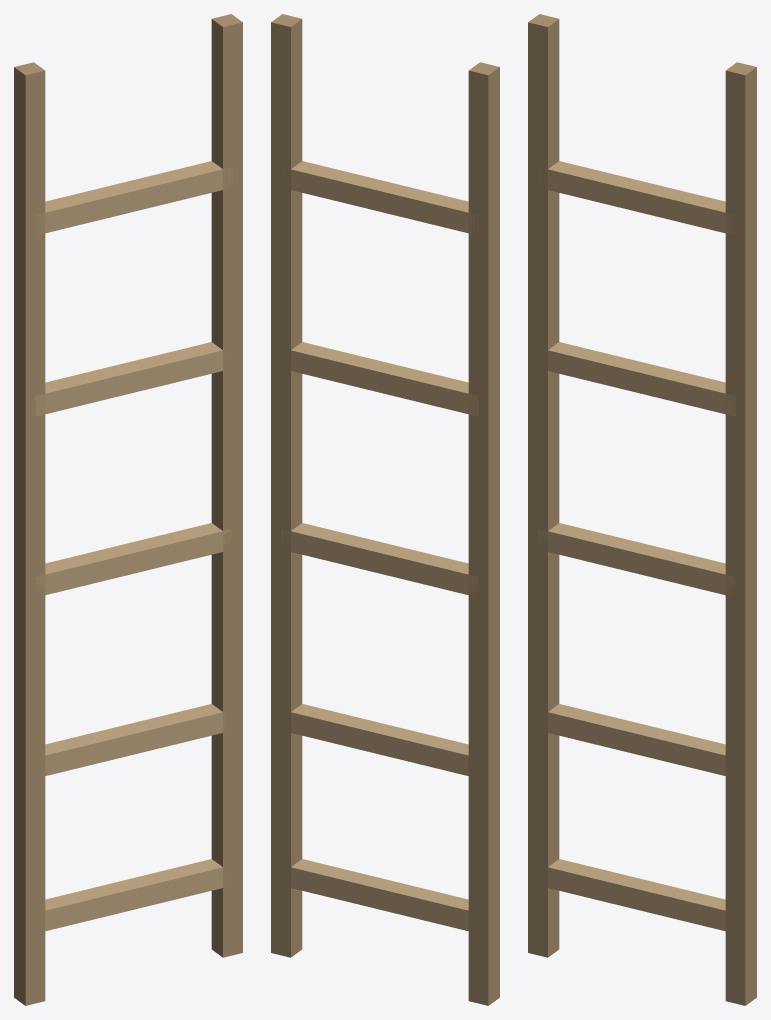
The model's file is 18-Casas_escalera_mano.glb.
The picture shows the model from 3 angles, left to right: view 1: azimuth 30°, elevation 25°; view 2: azimuth 150°, elevation 25°; view 3: azimuth 330°, elevation 25°; orthographic projection.
Visible parts, largest first — view 1: SM_Escalera_M_Escalera_Larguero, SM_Escalera_M_Escalera_Peldano; view 2: SM_Escalera_M_Escalera_Larguero, SM_Escalera_M_Escalera_Peldano; view 3: SM_Escalera_M_Escalera_Larguero, SM_Escalera_M_Escalera_Peldano.
Part boxes in pixels (x1=…): SM_Escalera_M_Escalera_Larguero: x1=14, y1=14, x2=242, y2=1005; SM_Escalera_M_Escalera_Peldano: x1=35, y1=161, x2=232, y2=931; SM_Escalera_M_Escalera_Larguero: x1=271, y1=14, x2=499, y2=1005; SM_Escalera_M_Escalera_Peldano: x1=281, y1=161, x2=478, y2=931; SM_Escalera_M_Escalera_Larguero: x1=528, y1=14, x2=756, y2=1005; SM_Escalera_M_Escalera_Peldano: x1=538, y1=161, x2=735, y2=931.
Size of the model in its own units: 0.44 by 1.8 by 0.04.
